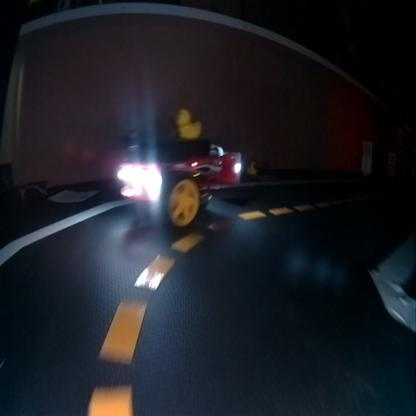Duckie: (174, 109, 200, 135), (246, 162, 256, 174)
Duckiebot: (115, 143, 240, 228)
